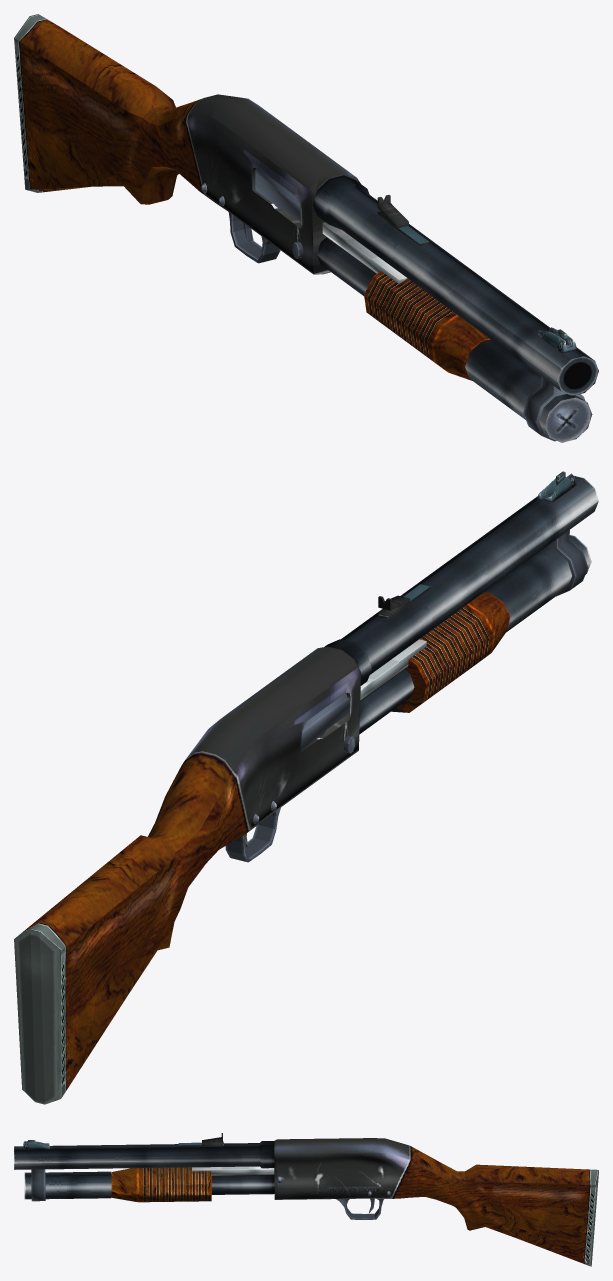
Rendered from fn_shotgun_obj.FBX.
3 views of the same model, one above another, from view 1: azimuth 30°, elevation 25°; view 2: azimuth 150°, elevation 25°; view 3: azimuth 270°, elevation 25° (orthographic). The views are drawn at different scales.
Parts seen in each view (by area): view 1: fn_shotgun_obj; view 2: fn_shotgun_obj; view 3: fn_shotgun_obj.
Part boxes in pixels (<box>): fn_shotgun_obj: <box>14,14,598,442</box>; fn_shotgun_obj: <box>14,471,598,1104</box>; fn_shotgun_obj: <box>14,1133,598,1266</box>.
Size of the model in its own units: 2.06 by 29.76 by 7.41.
